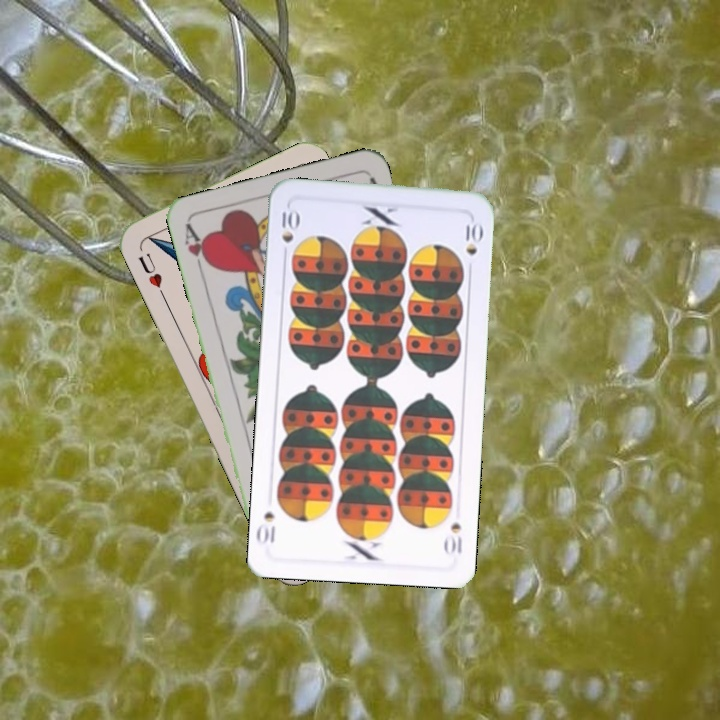HA: (180, 220, 214, 279)
HU: (134, 248, 168, 300)
S10: (277, 203, 301, 262), (441, 519, 465, 557)
